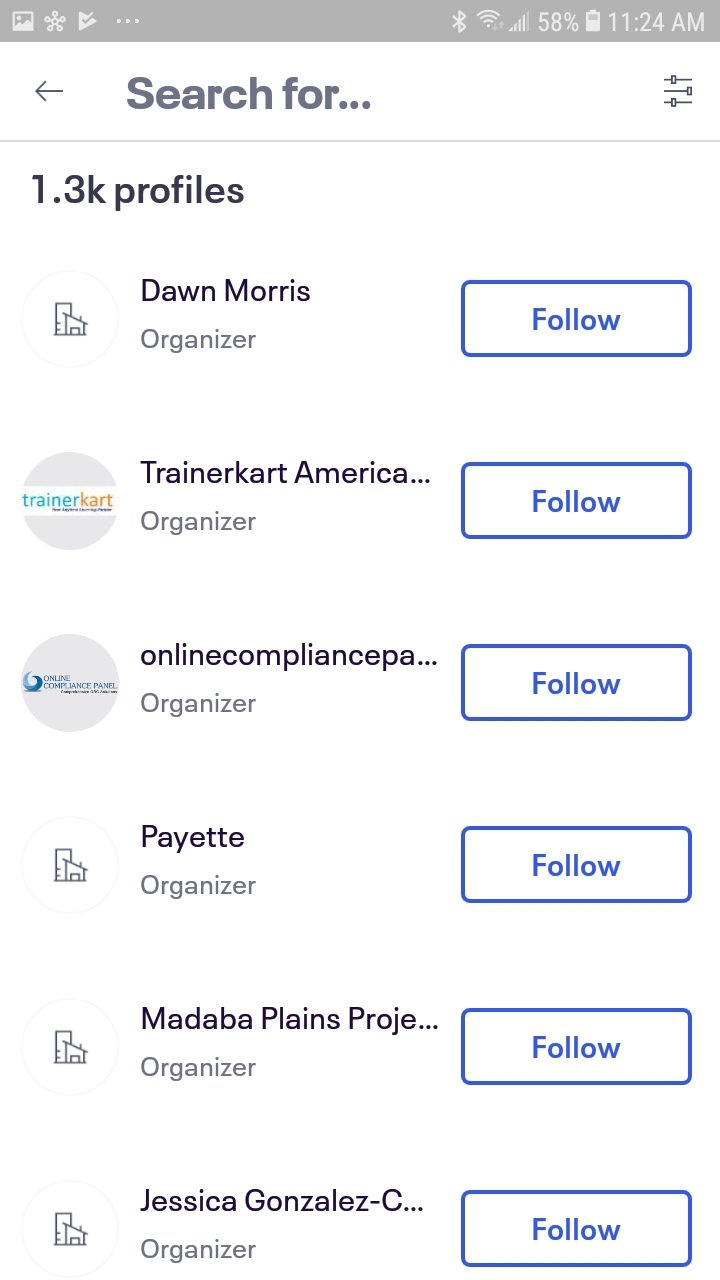Icon: (664, 76, 693, 109), (36, 80, 65, 103)
Image: (21, 997, 120, 1096), (22, 1179, 120, 1278), (21, 816, 120, 914), (22, 633, 120, 732), (22, 271, 120, 369), (23, 452, 119, 550)
Text: (142, 1006, 439, 1036), (141, 642, 438, 672), (127, 77, 371, 111), (33, 175, 245, 213), (140, 461, 431, 485), (140, 1188, 424, 1212), (142, 279, 312, 303), (142, 824, 245, 854), (140, 874, 257, 900), (141, 329, 258, 355), (141, 1238, 257, 1264), (142, 1056, 258, 1082), (141, 692, 257, 718), (141, 511, 257, 537)
TextButton: (461, 1189, 693, 1268), (461, 643, 693, 722), (461, 279, 693, 358), (461, 1008, 693, 1086), (461, 826, 693, 904), (461, 462, 693, 540)
UpperTaskBar: (1, 1, 720, 43)
